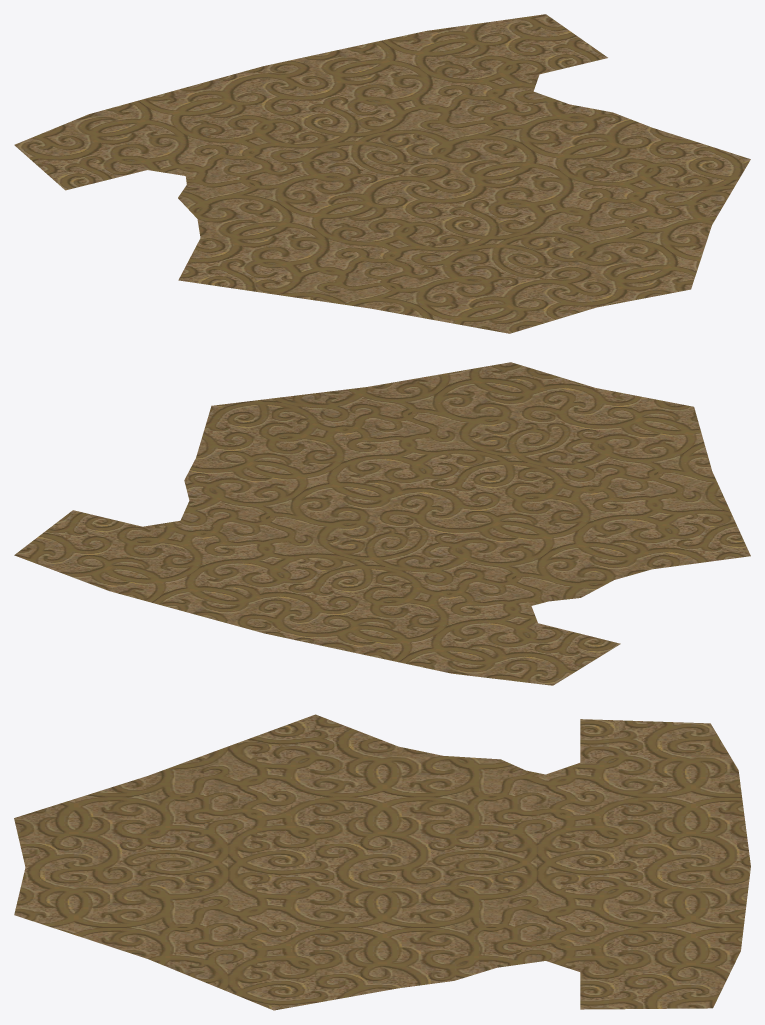
The model's file is EKH_THRONE_PS_TH_DOOR_FLOOR_01.fbx.
The picture shows the model from 3 angles, top to bottom: view 1: azimuth 30°, elevation 25°; view 2: azimuth 150°, elevation 25°; view 3: azimuth 270°, elevation 25°; orthographic projection. The views are drawn at different scales.
Visible parts, largest first — view 1: EKH_THRONE_PS_TH_DOOR_FLOOR_01; view 2: EKH_THRONE_PS_TH_DOOR_FLOOR_01; view 3: EKH_THRONE_PS_TH_DOOR_FLOOR_01.
Boxes of the visible parts, bbox=[...] form: EKH_THRONE_PS_TH_DOOR_FLOOR_01: bbox=[14, 14, 750, 333]; EKH_THRONE_PS_TH_DOOR_FLOOR_01: bbox=[14, 362, 750, 685]; EKH_THRONE_PS_TH_DOOR_FLOOR_01: bbox=[14, 714, 750, 1010].
Bounding box in the file's own units: 68105 × 49.65 × 71637.
Materials: 1 (1 with a texture image).
